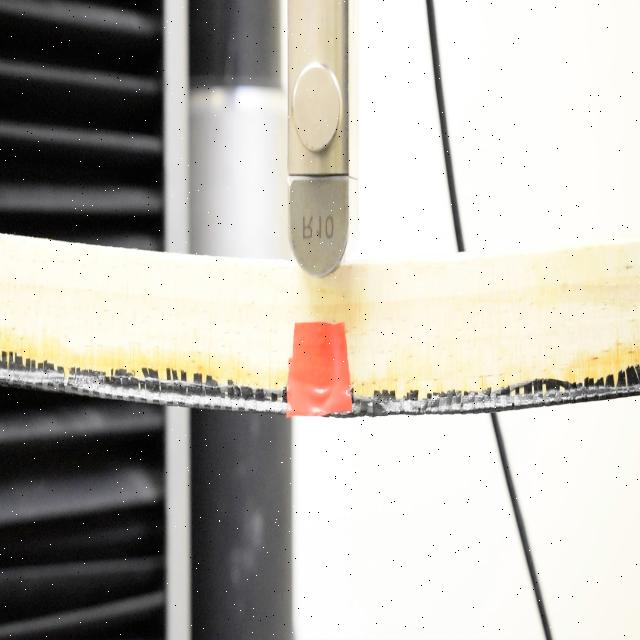wood: (1, 242, 640, 422)
